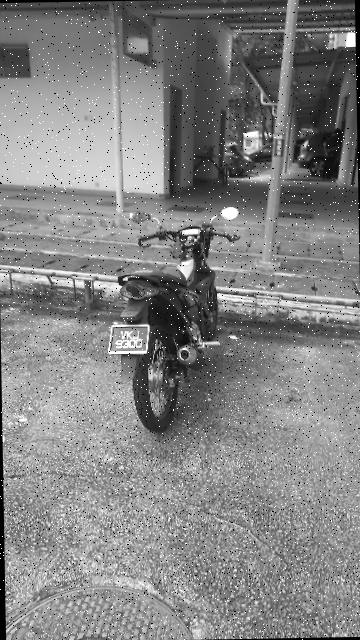License_Plate: (106, 325, 152, 358)
motorcycle: (104, 208, 249, 434)
